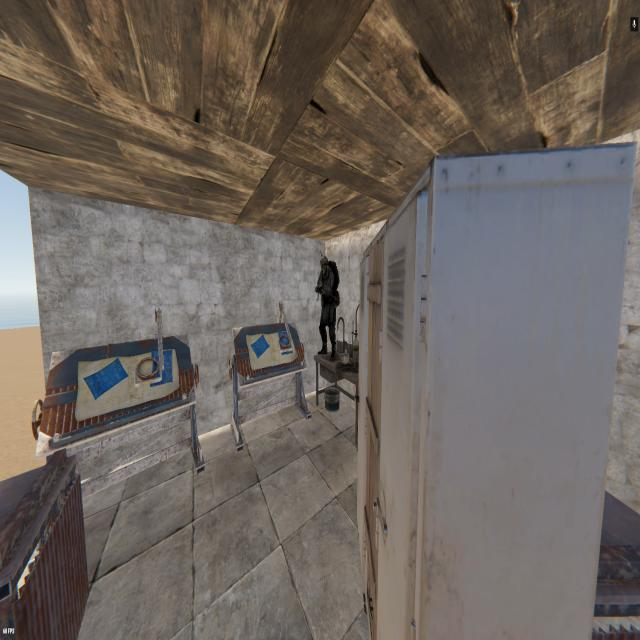Player: (314, 251, 341, 362)
